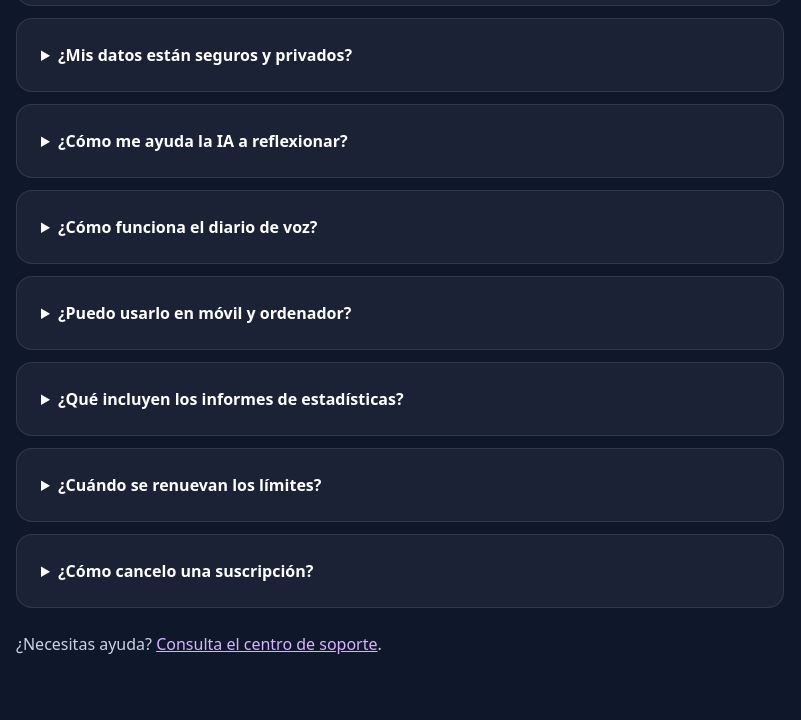
Test case: FAQ toggles ¿Cómo cancelo una suscripción?
(page scrolled)
Click the heading "¿Cómo cancelo una suscripción?". click: (186,571)
box: [58, 560, 313, 582]
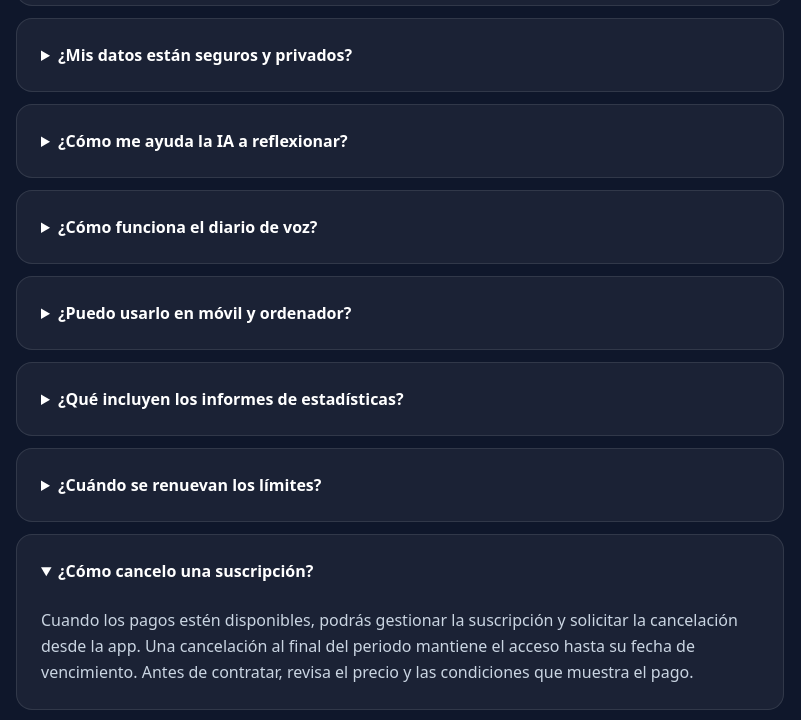
Result: the text "Cuando los pagos estén disponibles, podrás gestionar la suscripción y solicitar la cancelación desde la app. Una cancela" is shown at [41, 609, 738, 683]
Click the heading "¿Cómo cancelo una suscripción?". click: (186,571)
box: [58, 560, 313, 582]
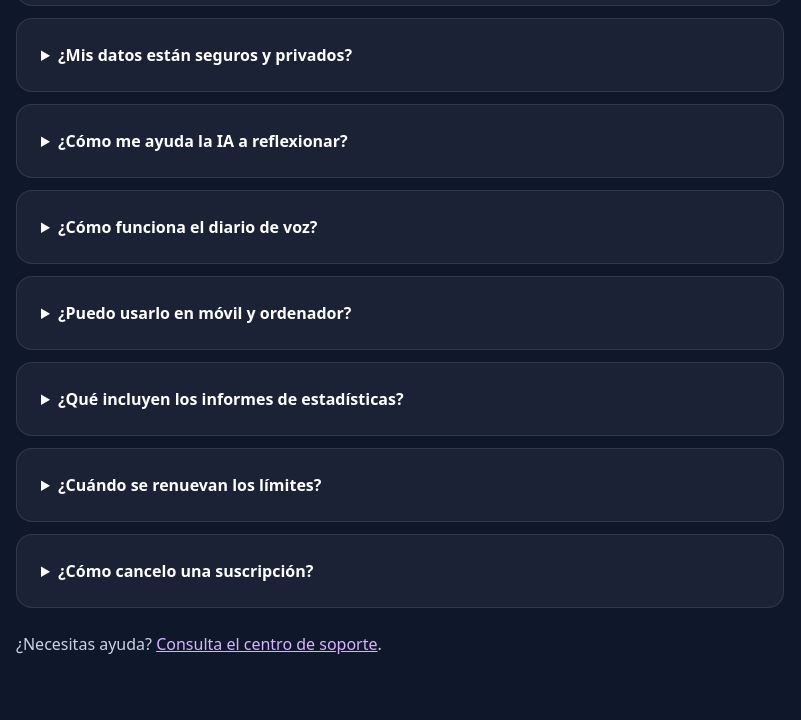
Result: the text "Cuando los pagos estén disponibles, podrás gestionar la suscripción y solicitar la cancelación desde la app. Una cancela" is gone
